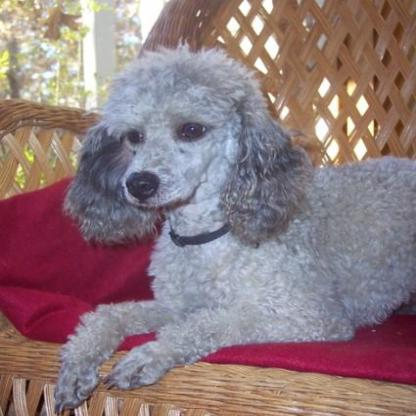miniature_poodle: (52, 46, 413, 412)
